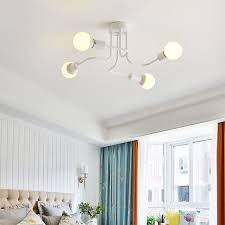bulb: (68, 25, 99, 54), (157, 41, 186, 68), (56, 57, 81, 82), (140, 69, 159, 97)
